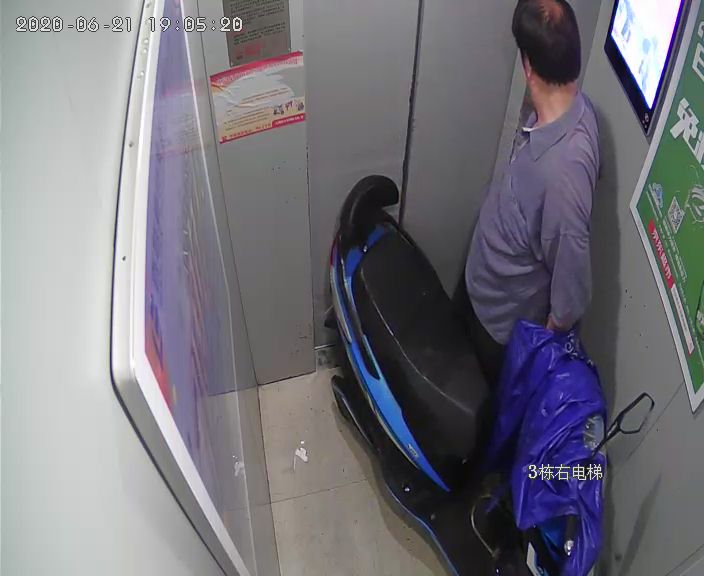Electric-bicycle: (315, 170, 655, 574)
